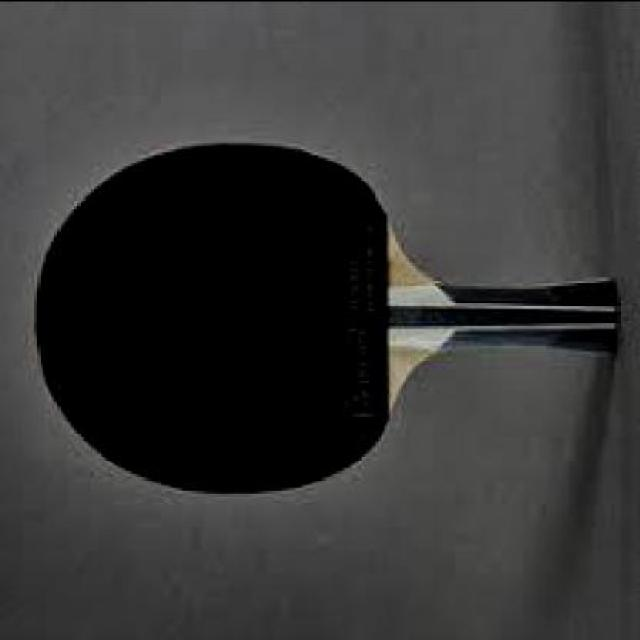table_tennis_racket: (31, 136, 446, 493)
